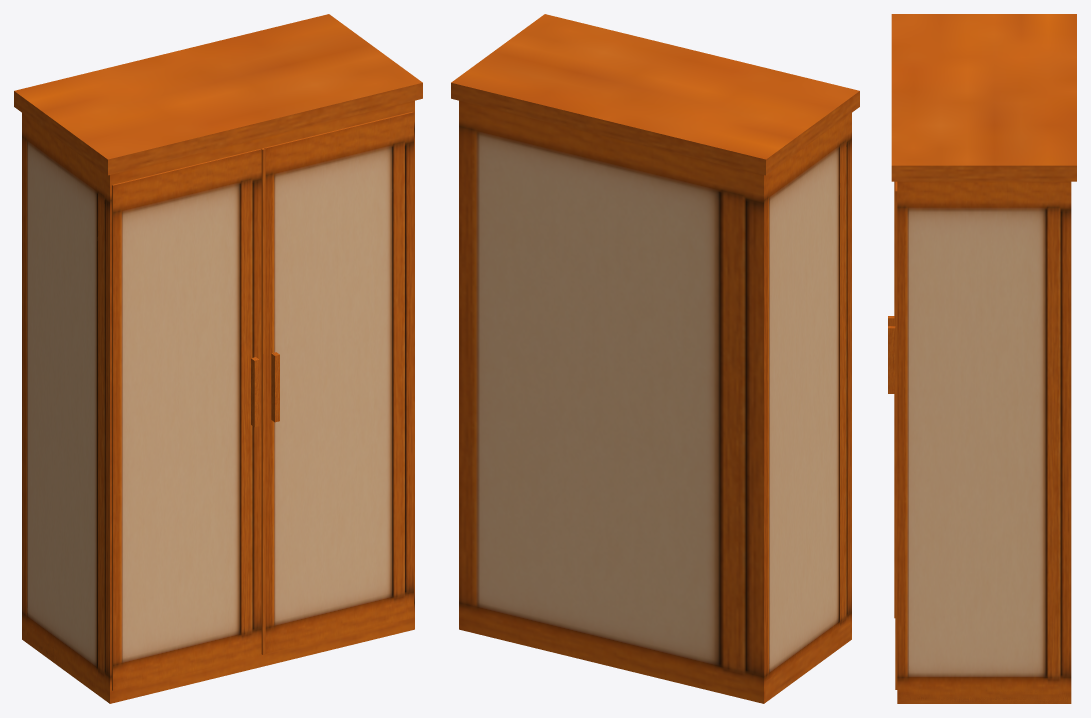
File: Wardrobe.fbx
The picture shows the model from 3 angles, left to right: view 1: azimuth 30°, elevation 25°; view 2: azimuth 150°, elevation 25°; view 3: azimuth 270°, elevation 25°; orthographic projection.
Visible parts, largest first — view 1: Wardrobe; view 2: Wardrobe; view 3: Wardrobe.
Part boxes in pixels (x1=…): Wardrobe: x1=14, y1=14, x2=422, y2=703; Wardrobe: x1=451, y1=14, x2=859, y2=703; Wardrobe: x1=888, y1=14, x2=1076, y2=703.
Size of the model in its own units: 1.24 by 2.06 by 0.6525.
